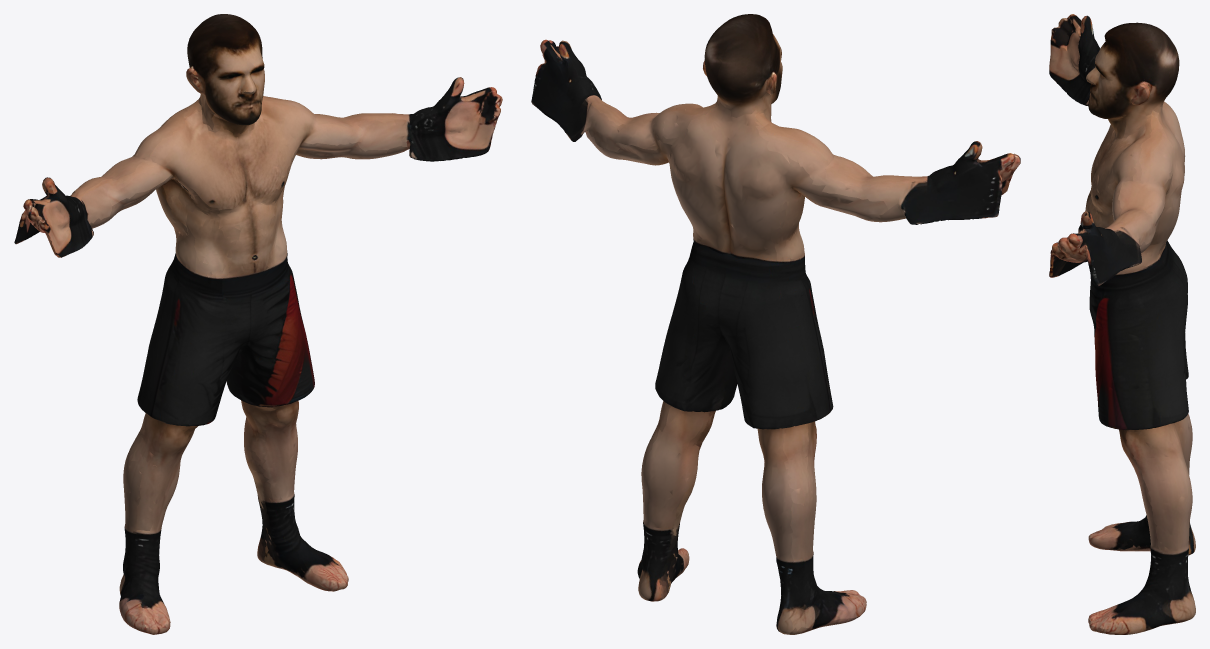
The model's file is fighter_apose_01.obj.
3 views of the same model, side by side, from view 1: azimuth 30°, elevation 25°; view 2: azimuth 150°, elevation 25°; view 3: azimuth 270°, elevation 25° (orthographic). The views are drawn at different scales.
Visible parts, largest first — view 1: textured_mesh; view 2: textured_mesh; view 3: textured_mesh.
Part boxes in pixels (x1,y1,x2,y2): textured_mesh: (14, 14, 502, 634); textured_mesh: (531, 14, 1020, 634); textured_mesh: (1049, 14, 1195, 634).
Bounding box in the file's own units: 1.71 × 1.99 × 0.4735.
Materials: 1 (1 with a texture image).
